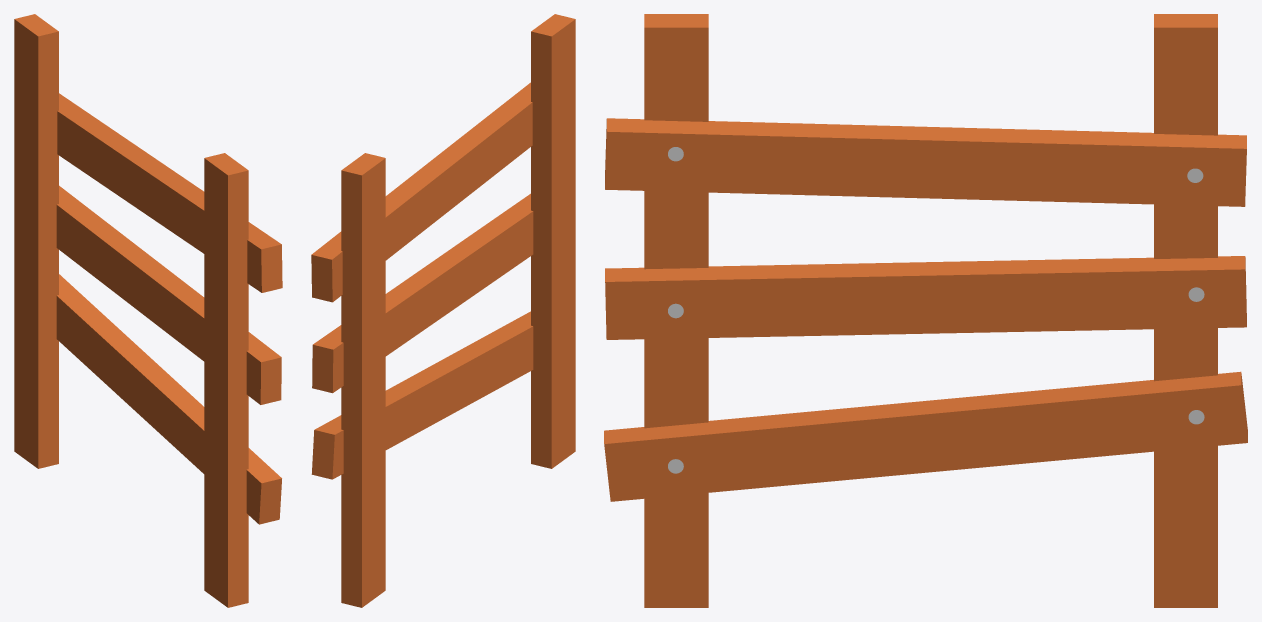
File: fence_type3.glb
3 renders of one model, left to right at view 1: azimuth 30°, elevation 25°; view 2: azimuth 150°, elevation 25°; view 3: azimuth 270°, elevation 25°, orthographic. The views are drawn at different scales.
Visible parts, largest first — view 1: Cube.001, Cube.002, Cube.003, Cube.004, Cube; view 2: Cube.001, Cube.002, Cube, Cube.004, Cube.003; view 3: Cube, Cube.003, Cube.004, Cube.002, Cube.001.
Part boxes in pixels (x1,y1,x2,y2): Cube.001: (14, 14, 58, 468); Cube.002: (204, 153, 248, 607); Cube.003: (56, 274, 281, 524); Cube.004: (56, 185, 281, 404); Cube: (57, 93, 282, 292); Cube.001: (341, 153, 385, 607); Cube.002: (531, 14, 575, 468); Cube: (311, 82, 532, 302); Cube.004: (312, 193, 533, 393); Cube.003: (311, 311, 533, 479); Cube: (605, 118, 1246, 206); Cube.003: (604, 371, 1247, 501); Cube.004: (605, 256, 1246, 339); Cube.002: (644, 14, 708, 607); Cube.001: (1154, 14, 1217, 607).
Size of the model in its own units: 0.3903 by 4 by 4.02.
